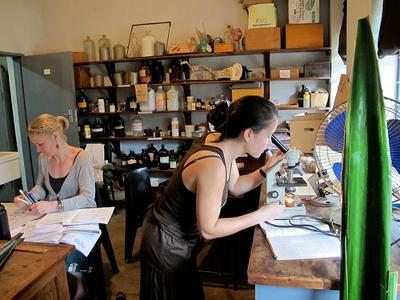person: (139, 95, 296, 300)
